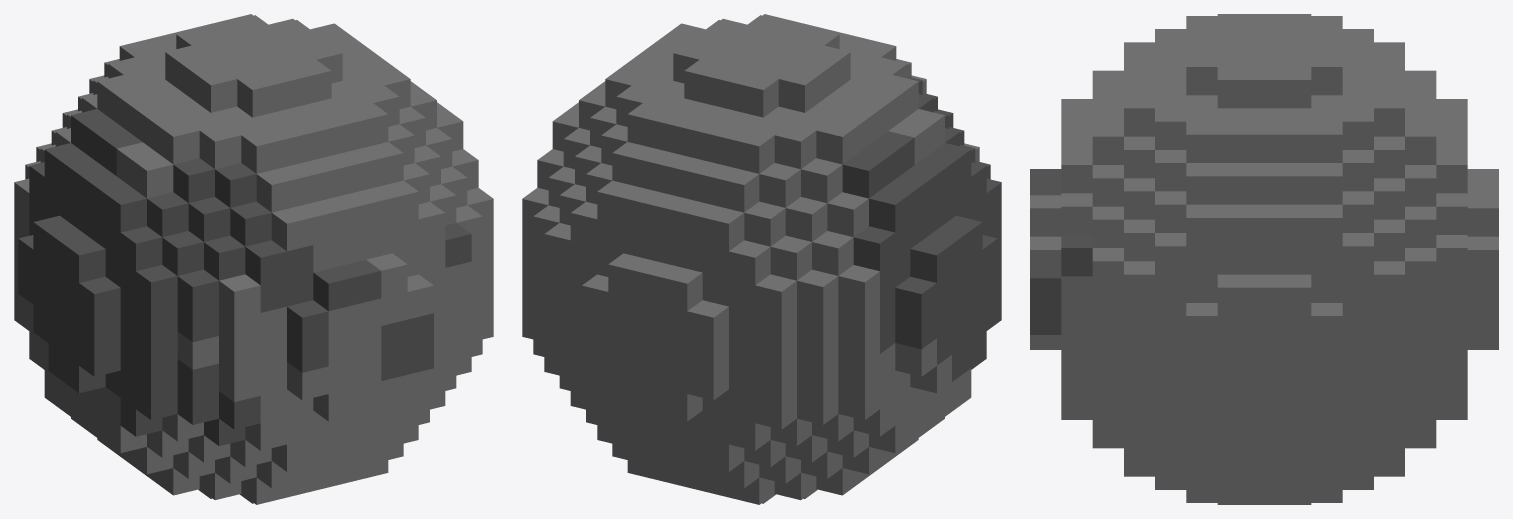
Rendered from luna.obj.
3 views of the same model, side by side, from view 1: azimuth 30°, elevation 25°; view 2: azimuth 150°, elevation 25°; view 3: azimuth 270°, elevation 25° (orthographic). The views are drawn at different scales.
Parts seen in each view (by area): view 1: luna; view 2: luna; view 3: luna.
Boxes of the visible parts, x1,y1,x2,y2 form: luna: (14, 14, 493, 504); luna: (522, 14, 1001, 504); luna: (1030, 14, 1498, 504).
Bounding box in the file's own units: 15 × 15 × 15.
Materials: 1 (1 with a texture image).
